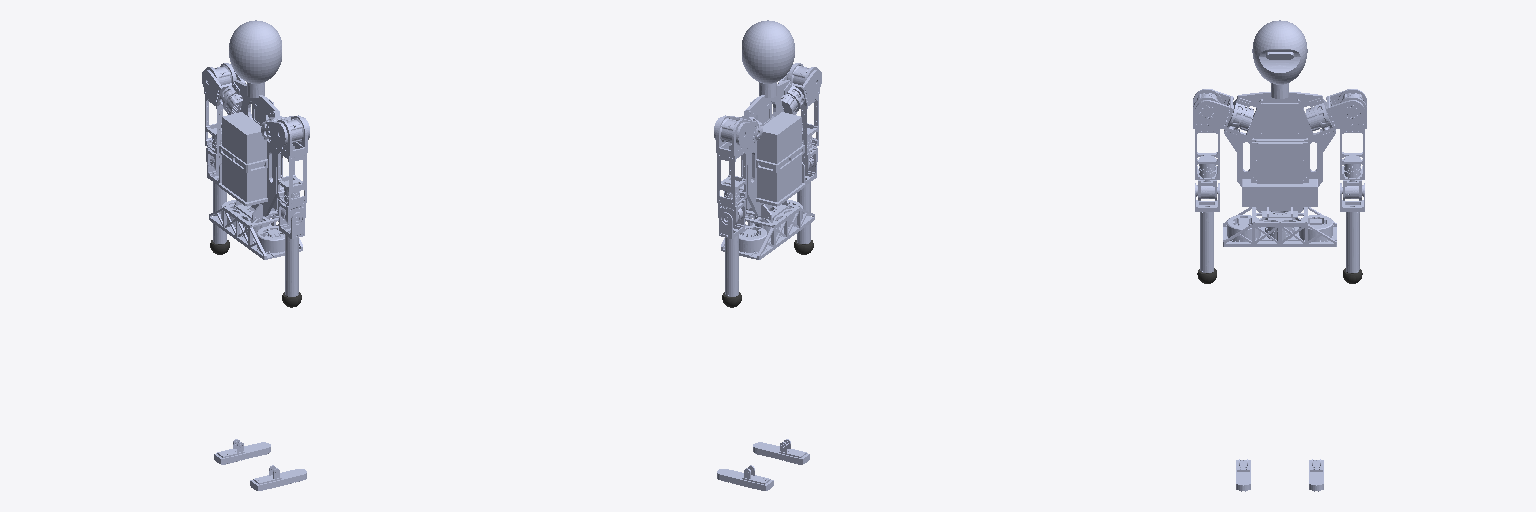
URDF robot description (wholebody_4_dof_arm_20deg_with_head_RL):
<?xml version="1.0" encoding="utf-8"?>
<!-- This URDF was automatically created by SolidWorks to URDF Exporter! Originally created by Stephen Brawner (brawner@gmail.com) 
     Commit Version: 1.6.0-4-g7f85cfe  Build Version: 1.6.7995.38578
     For more information, please see http://wiki.ros.org/sw_urdf_exporter -->
<robot name="wholebody_4_dof_arm_20deg_with_head_RL">
  <link name="base">
    <inertial>
      <origin xyz="-4E-06 1E-05 0.030876" rpy="0 0 0" />
      <mass value="5.124" />
      <inertia ixx="0.051784" ixy="0" ixz="1E-06" iyy="0.01018" iyz="-1E-06" izz="0.055756" />
    </inertial>
    <visual>
      <origin xyz="0 0 0" rpy="0 0 0" />
      <geometry>
        <mesh filename="package://upper_motor_test/urdf/meshes/Pelvis.STL" />
      </geometry>
      <material name="">
        <color rgba="0.792156862745098 0.819607843137255 0.933333333333333 1" />
      </material>
    </visual>
    <!-- <collision>
      <origin xyz="0 0 0" rpy="0 0 0" />
      <geometry>
        <mesh filename="meshes/Pelvis.STL" />
      </geometry>
    </collision> -->
  </link>
  <link name="Torso">
    <inertial>
      <origin xyz="-0.004339 0 0.21611" rpy="0 0 0" />
      <mass value="16.637" />
      <inertia ixx="0.29678" ixy="-2.9E-05" ixz="-0.0052" iyy="0.23294" iyz="0" izz="0.11448" />
    </inertial>
    <visual>
      <origin xyz="0 0 0" rpy="0 0 0" />
      <geometry>
        <mesh filename="package://upper_motor_test/urdf/meshes/Torso.STL" />
      </geometry>
      <material name="">
        <color rgba="0.792156862745098 0.819607843137255 0.933333333333333 1" />
      </material>
    </visual>
    <collision>
      <origin xyz="0 0 0.22" rpy="0 0 0" />
      <geometry>
        <box size="0.17 0.2 0.42" />
      </geometry>
    </collision>
  </link>
  <joint name="Waist_joint" type="revolute">
    <origin xyz="0 0 0.0825" rpy="0 0 0" />
    <parent link="base" />
    <child link="Torso" />
    <axis xyz="0 0 -1" />
    <limit lower="-0.87" upper="0.87" effort="100" velocity="13" />
  </joint>
  <link name="L_shoulder_pitch">
    <inertial>
      <origin xyz="0.002118 0.049276 0" rpy="0 0 0" />
      <mass value="0.47258" />
      <inertia ixx="0.000904" ixy="6.4E-05" ixz="0" iyy="0.000955" iyz="0" izz="0.001372" />
    </inertial>
    <visual>
      <origin xyz="0 0 0" rpy="0 0 0" />
      <geometry>
        <mesh filename="package://upper_motor_test/urdf/meshes/L_shoulder_pitch.STL" />
      </geometry>
      <material name="">
        <color rgba="0.792156862745098 0.819607843137255 0.933333333333333 1" />
      </material>
    </visual>
    <!-- <collision>
      <origin xyz="0 0 0" rpy="0 0 0" />
      <geometry>
        <mesh filename="meshes/L_shoulder_pitch.STL" />
      </geometry>
    </collision> -->
  </link>
  <joint name="L_shoulder_pitch_joint" type="revolute">
    <origin xyz="0.011233 0.15918 0.36224" rpy="0.34907 0 0" />
    <parent link="Torso" />
    <child link="L_shoulder_pitch" />
    <axis xyz="0 1 0" />
    <limit lower="-3.14" upper="1.05" effort="55" velocity="16" />
  </joint>
  <link name="L_shoulder_roll">
    <inertial>
      <origin xyz="0.001469 -7E-05 -0.079989" rpy="0 0 0" />
      <mass value="2.0026" />
      <inertia ixx="0.020339" ixy="-4E-06" ixz="0.000225" iyy="0.020072" iyz="4.8E-05" izz="0.002315" />
    </inertial>
    <visual>
      <origin xyz="0 0 0" rpy="0 0 0" />
      <geometry>
        <mesh filename="package://upper_motor_test/urdf/meshes/L_shoulder_roll.STL" />
      </geometry>
      <material name="">
        <color rgba="0.792156862745098 0.819607843137255 0.933333333333333 1" />
      </material>
    </visual>
    <!-- <collision>
      <origin xyz="0 0 0" rpy="0 0 0" />
      <geometry>
        <mesh filename="meshes/L_shoulder_roll.STL" />
      </geometry>
    </collision> -->
  </link>
  <joint name="L_shoulder_roll_joint" type="revolute">
    <origin xyz="-0.011233 0.082768 -0.00027966" rpy="-0.34907 0 0" />
    <parent link="L_shoulder_pitch" />
    <child link="L_shoulder_roll" />
    <axis xyz="1 0 0" />
    <limit lower="0" upper="1.92" effort="55" velocity="16" />
  </joint>
  <link name="L_shoulder_yaw">
    <inertial>
      <origin xyz="4.8E-05 0.00162 -0.045384" rpy="0 0 0" />
      <mass value="0.60851" />
      <inertia ixx="0.000608" ixy="0" ixz="0" iyy="0.00049" iyz="-2E-06" izz="0.000483" />
    </inertial>
    <visual>
      <origin xyz="0 0 0" rpy="0 0 0" />
      <geometry>
        <mesh filename="package://upper_motor_test/urdf/meshes/L_shoulder_yaw.STL" />
      </geometry>
      <material name="">
        <color rgba="0.792156862745098 0.819607843137255 0.933333333333333 1" />
      </material>
    </visual>
    <!-- <collision>
      <origin xyz="0 0 0" rpy="0 0 0" />
      <geometry>
        <mesh filename="meshes/L_shoulder_yaw.STL" />
      </geometry>
    </collision> -->
  </link>
  <joint name="L_shoulder_yaw_joint" type="revolute">
    <origin xyz="0 0 -0.2505" rpy="0 0 0" />
    <parent link="L_shoulder_roll" />
    <child link="L_shoulder_yaw" />
    <axis xyz="0 0 -1" />
    <limit lower="-1.57" upper="1.57" effort="30" velocity="8.5" />
  </joint>
  <link name="L_elbow">
    <inertial>
      <origin xyz="0 -5.2E-05 -0.075944" rpy="0 0 0" />
      <mass value="0.29715" />
      <inertia ixx="0.001705" ixy="0" ixz="0" iyy="0.001534" iyz="-1E-06" izz="0.000304" />
    </inertial>
    <visual>
      <origin xyz="0 0 0" rpy="0 0 0" />
      <geometry>
        <mesh filename="package://upper_motor_test/urdf/meshes/L_elbow.STL" />
      </geometry>
      <material name="">
        <color rgba="0.792156862745098 0.819607843137255 0.933333333333333 1" />
      </material>
    </visual>
    <!-- <collision>
      <origin xyz="0 0 0" rpy="0 0 0" />
      <geometry>
        <mesh filename="meshes/L_elbow.STL" />
      </geometry>
    </collision> -->
  </link>
  <joint name="L_elbow_joint" type="revolute">
    <origin xyz="0 0 -0.0545" rpy="0 0 0" />
    <parent link="L_shoulder_yaw" />
    <child link="L_elbow" />
    <axis xyz="0 1 0" />
    <limit lower="-1.92" upper="1.05" effort="30" velocity="8.5" />
  </joint>
  <link name="L_EE">
    <inertial>
      <origin xyz="0 0 -0.003514" rpy="0 0 0" />
      <mass value="0.15" />
      <inertia ixx="5.5E-05" ixy="0" ixz="0" iyy="5.5E-05" iyz="0" izz="6.4E-05" />
    </inertial>
    <visual>
      <origin xyz="0 0 0" rpy="0 0 0" />
      <geometry>
        <mesh filename="package://upper_motor_test/urdf/meshes/L_EE.STL" />
      </geometry>
      <material name="">
        <color rgba="0.298039215686275 0.298039215686275 0.298039215686275 1" />
      </material>
    </visual>
    <!-- <collision>
      <origin xyz="0 0 0" rpy="0 0 0" />
      <geometry>
        <mesh filename="meshes/L_EE.STL" />
      </geometry>
    </collision> -->
  </link>
  <joint name="L_EE_joint" type="fixed">
    <origin xyz="0 0 -0.299999999999998" rpy="0 0 0" />
    <parent link="L_elbow" />
    <child link="L_EE" />
    <axis xyz="0 0 0" />
    <limit lower="-1.57" upper="1.57" effort="30" velocity="8.5" />
  </joint>
  <link name="R_shoulder_pitch">
    <inertial>
      <origin xyz="0.002118 -0.049276 0" rpy="0 0 0" />
      <mass value="0.47258" />
      <inertia ixx="0.000904" ixy="-6.4E-05" ixz="0" iyy="0.000955" iyz="0" izz="0.001372" />
    </inertial>
    <visual>
      <origin xyz="0 0 0" rpy="0 0 0" />
      <geometry>
        <mesh filename="package://upper_motor_test/urdf/meshes/R_shoulder_pitch.STL" />
      </geometry>
      <material name="">
        <color rgba="0.792156862745098 0.819607843137255 0.933333333333333 1" />
      </material>
    </visual>
    <!-- <collision>
      <origin xyz="0 0 0" rpy="0 0 0" />
      <geometry>
        <mesh filename="meshes/R_shoulder_pitch.STL" />
      </geometry>
    </collision> -->
  </link>
  <joint name="R_shoulder_pitch_joint" type="revolute">
    <origin xyz="-0.011263 -0.16003 0.36224" rpy="-0.34907 0 0" />
    <parent link="Torso" />
    <child link="R_shoulder_pitch" />
    <axis xyz="0 1 0" />
    <limit lower="-3.14" upper="1.05" effort="55" velocity="16" />
  </joint>
  <link name="R_shoulder_roll">
    <inertial>
      <origin xyz="0.001469 -7E-05 -0.079989" rpy="0 0 0" />
      <mass value="2.0026" />
      <inertia ixx="0.020339" ixy="-4E-06" ixz="0.000225" iyy="0.020072" iyz="4.8E-05" izz="0.002315" />
    </inertial>
    <visual>
      <origin xyz="0 0 0" rpy="0 0 0" />
      <geometry>
        <mesh filename="package://upper_motor_test/urdf/meshes/R_shoulder_roll.STL" />
      </geometry>
      <material name="">
        <color rgba="0.792156862745098 0.819607843137255 0.933333333333333 1" />
      </material>
    </visual>
    <!-- <collision>
      <origin xyz="0 0 0" rpy="0 0 0" />
      <geometry>
        <mesh filename="meshes/R_shoulder_roll.STL" />
      </geometry>
    </collision> -->
  </link>
  <joint name="R_shoulder_roll_joint" type="revolute">
    <origin xyz="0.011263 -0.081976 0" rpy="0.34907 0 0" />
    <parent link="R_shoulder_pitch" />
    <child link="R_shoulder_roll" />
    <axis xyz="1 0 0" />
    <limit lower="-1.92" upper="0" effort="55" velocity="16" />
  </joint>
  <link name="R_shoulder_yaw">
    <inertial>
      <origin xyz="-4.8E-05 -0.00162 -0.045384" rpy="0 0 0" />
      <mass value="0.60851" />
      <inertia ixx="0.000608" ixy="0" ixz="0" iyy="0.00049" iyz="2E-06" izz="0.000483" />
    </inertial>
    <visual>
      <origin xyz="0 0 0" rpy="0 0 0" />
      <geometry>
        <mesh filename="package://upper_motor_test/urdf/meshes/R_shoulder_yaw.STL" />
      </geometry>
      <material name="">
        <color rgba="0.792156862745098 0.819607843137255 0.933333333333333 1" />
      </material>
    </visual>
    <!-- <collision>
      <origin xyz="0 0 0" rpy="0 0 0" />
      <geometry>
        <mesh filename="meshes/R_shoulder_yaw.STL" />
      </geometry>
    </collision> -->
  </link>
  <joint name="R_shoulder_yaw_joint" type="revolute">
    <origin xyz="0 0 -0.2505" rpy="0 0 0" />
    <parent link="R_shoulder_roll" />
    <child link="R_shoulder_yaw" />
    <axis xyz="0 0 -1" />
    <limit lower="-1.57" upper="1.57" effort="30" velocity="8.5" />
  </joint>
  <link name="R_elbow">
    <inertial>
      <origin xyz="0 5.2E-05 -0.075944" rpy="0 0 0" />
      <mass value="0.29715" />
      <inertia ixx="0.001705" ixy="0" ixz="0" iyy="0.001534" iyz="1E-06" izz="0.000304" />
    </inertial>
    <visual>
      <origin xyz="0 0 0" rpy="0 0 0" />
      <geometry>
        <mesh filename="package://upper_motor_test/urdf/meshes/R_elbow.STL" />
      </geometry>
      <material name="">
        <color rgba="0.792156862745098 0.819607843137255 0.933333333333333 1" />
      </material>
    </visual>
    <!-- <collision>
      <origin xyz="0 0 0" rpy="0 0 0" />
      <geometry>
        <mesh filename="meshes/R_elbow.STL" />
      </geometry>
    </collision> -->
  </link>
  <joint name="R_elbow_joint" type="revolute">
    <origin xyz="0 0 -0.0545" rpy="0 0 0" />
    <parent link="R_shoulder_yaw" />
    <child link="R_elbow" />
    <axis xyz="0 1 0" />
    <limit lower="-1.92" upper="1.05" effort="30" velocity="8.5" />
  </joint>
  <link name="R_EE">
    <inertial>
      <origin xyz="0 0 -0.003514" rpy="0 0 0" />
      <mass value="0.15" />
      <inertia ixx="5.5E-05" ixy="0" ixz="0" iyy="5.5E-05" iyz="0" izz="6.4E-05" />
    </inertial>
    <visual>
      <origin xyz="0 0 0" rpy="0 0 0" />
      <geometry>
        <mesh filename="package://upper_motor_test/urdf/meshes/R_EE.STL" />
      </geometry>
      <material name="">
        <color rgba="0.298039215686275 0.298039215686275 0.298039215686275 1" />
      </material>
    </visual>
    <!-- <collision>
      <origin xyz="0 0 0" rpy="0 0 0" />
      <geometry>
        <mesh filename="meshes/R_EE.STL" />
      </geometry>
    </collision> -->
  </link>
  <joint name="R_EE_joint" type="fixed">
    <origin xyz="0 0 -0.3" rpy="0 0 0" />
    <parent link="R_elbow" />
    <child link="R_EE" />
    <axis xyz="0 0 0" />
    <limit lower="-1.57" upper="1.57" effort="30" velocity="8.5" />
  </joint>
  <link name="L_hip">
    <inertial>
      <origin xyz="-0.076146 -0.000144 -0.068558" rpy="0 0 0" />
      <mass value="1.5262" />
      <inertia ixx="0.004624" ixy="1.1E-05" ixz="0.001652" iyy="0.005293" iyz="6E-06" izz="0.003353" />
    </inertial>
    <visual>
      <origin xyz="0 0 0" rpy="0 0 0" />
      <geometry>
        <mesh filename="package://upper_motor_test/urdf/meshes/L_hip.STL" />
      </geometry>
      <material name="">
        <color rgba="0.792156862745098 0.819607843137255 0.933333333333333 1" />
      </material>
    </visual>
    <!-- <collision>
      <origin xyz="0 0 0" rpy="0 0 0" />
      <geometry>
        <mesh filename="meshes/L_hip.STL" />
      </geometry>
    </collision> -->
  </link>
  <joint name="L_hip_joint" type="revolute">
    <origin xyz="0 0.1175 0.0058" rpy="0 0 0" />
    <parent link="base" />
    <child link="L_hip" />
    <axis xyz="0 0 1" />
    <limit lower="-0.79" upper="0.61" effort="115" velocity="22" />
  </joint>
  <link name="L_hip2">
    <inertial>
      <origin xyz="0.062812 -0.057927 -0.015123" rpy="0 0 0" />
      <mass value="1.3333" />
      <inertia ixx="0.002186" ixy="-0.000631" ixz="-0.00026" iyy="0.003313" iyz="0.000174" izz="0.002911" />
    </inertial>
    <visual>
      <origin xyz="0 0 0" rpy="0 0 0" />
      <geometry>
        <mesh filename="package://upper_motor_test/urdf/meshes/L_hip2.STL" />
      </geometry>
      <material name="">
        <color rgba="0.792156862745098 0.819607843137255 0.933333333333333 1" />
      </material>
    </visual>
    <!-- <collision>
      <origin xyz="0 0 0" rpy="0 0 0" />
      <geometry>
        <mesh filename="meshes/L_hip2.STL" />
      </geometry>
    </collision> -->
  </link>
  <joint name="L_hip2_joint" type="revolute">
    <origin xyz="-0.0733 0 -0.0965" rpy="0 0 0" />
    <parent link="L_hip" />
    <child link="L_hip2" />
    <axis xyz="-1 0 0" />
    <limit lower="-0.7" upper="0.52" effort="115" velocity="22" />
  </joint>
  <link name="L_thigh">
    <inertial>
      <origin xyz="-2E-05 0.050143 -0.086535" rpy="0 0 0" />
      <mass value="4.91" />
      <inertia ixx="0.078865" ixy="0" ixz="-9E-06" iyy="0.079352" iyz="0.00221" izz="0.009803" />
    </inertial>
    <visual>
      <origin xyz="0 0 0" rpy="0 0 0" />
      <geometry>
        <mesh filename="package://upper_motor_test/urdf/meshes/L_thigh.STL" />
      </geometry>
      <material name="">
        <color rgba="0.792156862745098 0.819607843137255 0.933333333333333 1" />
      </material>
    </visual>
    <collision>
      <origin xyz="0 0.051057 -0.2" rpy="0 0 0" />
      <geometry>
        <cylinder radius="0.03" length="0.27" />
      </geometry>
    </collision>
  </link>
  <joint name="L_thigh_joint" type="revolute">
    <origin xyz="0.075 -0.0443 -0.0185" rpy="0 0 0" />
    <parent link="L_hip2" />
    <child link="L_thigh" />
    <axis xyz="0 1 0" />
    <limit lower="-2.44" upper="0.35" effort="115" velocity="22" />
  </joint>
  <link name="L_calf">
    <inertial>
      <origin xyz="3.6E-05 0.000712 -0.1237" rpy="0 0 0" />
      <mass value="1.5" />
      <inertia ixx="0.014686" ixy="0" ixz="3E-06" iyy="0.014996" iyz="-9E-06" izz="0.001006" />
    </inertial>
    <visual>
      <origin xyz="0 0 0" rpy="0 0 0" />
      <geometry>
        <mesh filename="package://upper_motor_test/urdf/meshes/L_calf.STL" />
      </geometry>
      <material name="">
        <color rgba="0.792156862745098 0.819607843137255 0.933333333333333 1" />
      </material>
    </visual>
    <collision>
      <origin xyz="0 0 -0.2" rpy="0 0 0" />
      <geometry>
        <cylinder radius="0.03" length="0.27" />
      </geometry>
    </collision>
  </link>
  <joint name="L_calf_joint" type="revolute">
    <origin xyz="0 0.045966 -0.35" rpy="0 0 0" />
    <parent link="L_thigh" />
    <child link="L_calf" />
    <axis xyz="0 -1 0" />
    <limit lower="-2.09" upper="2.09" effort="175" velocity="22" />
  </joint>
  <link name="L_toe">
    <inertial>
      <origin xyz="0.01468 1.4E-05 -0.035597" rpy="0 0 0" />
      <mass value="0.52014" />
      <inertia ixx="0.000142" ixy="-1E-06" ixz="-2.6E-05" iyy="0.001621" iyz="0" izz="0.001685" />
    </inertial>
    <visual>
      <origin xyz="0 0 0" rpy="0 0 0" />
      <geometry>
        <mesh filename="package://upper_motor_test/urdf/meshes/L_toe.STL" />
      </geometry>
      <material name="">
        <color rgba="0.792156862745098 0.819607843137255 0.933333333333333 1" />
      </material>
    </visual>
    <collision>
      <origin xyz="0 0 0" rpy="0 0 0" />
      <geometry>
        <mesh filename="package://upper_motor_test/urdf/meshes/L_toe.STL" />
      </geometry>
    </collision>
  </link>
  <joint name="L_toe_joint" type="revolute">
    <origin xyz="-0.019446 0 -0.34946" rpy="0 0 0" />
    <parent link="L_calf" />
    <child link="L_toe" />
    <axis xyz="0 -1 0" />
    <limit lower="-0.7854" upper="0.7854" effort="20" velocity="15" />
  </joint>
  <link name="R_hip">
    <inertial>
      <origin xyz="-0.076146 -0.000144 -0.068558" rpy="0 0 0" />
      <mass value="1.5262" />
      <inertia ixx="0.004624" ixy="1.1E-05" ixz="0.001652" iyy="0.005293" iyz="6E-06" izz="0.003353" />
    </inertial>
    <visual>
      <origin xyz="0 0 0" rpy="0 0 0" />
      <geometry>
        <mesh filename="package://upper_motor_test/urdf/meshes/R_hip.STL" />
      </geometry>
      <material name="">
        <color rgba="0.792156862745098 0.819607843137255 0.933333333333333 1" />
      </material>
    </visual>
    <!-- <collision>
      <origin xyz="0 0 0" rpy="0 0 0" />
      <geometry>
        <mesh filename="meshes/R_hip.STL" />
      </geometry>
    </collision> -->
  </link>
  <joint name="R_hip_joint" type="revolute">
    <origin xyz="0 -0.1175 0.0058" rpy="0 0 0" />
    <parent link="base" />
    <child link="R_hip" />
    <axis xyz="0 0 1" />
    <limit lower="-0.61" upper="0.79" effort="115" velocity="22" />
  </joint>
  <link name="R_hip2">
    <inertial>
      <origin xyz="0.062812 0.057927 -0.015123" rpy="0 0 0" />
      <mass value="1.3333" />
      <inertia ixx="0.002186" ixy="0.000631" ixz="-0.00026" iyy="0.003313" iyz="-0.000174" izz="0.002911" />
    </inertial>
    <visual>
      <origin xyz="0 0 0" rpy="0 0 0" />
      <geometry>
        <mesh filename="package://upper_motor_test/urdf/meshes/R_hip2.STL" />
      </geometry>
      <material name="">
        <color rgba="0.792156862745098 0.819607843137255 0.933333333333333 1" />
      </material>
    </visual>
    <!-- <collision>
      <origin xyz="0 0 0" rpy="0 0 0" />
      <geometry>
        <mesh filename="meshes/R_hip2.STL" />
      </geometry>
    </collision> -->
  </link>
  <joint name="R_hip2_joint" type="revolute">
    <origin xyz="-0.0733 0 -0.0965" rpy="0 0 0" />
    <parent link="R_hip" />
    <child link="R_hip2" />
    <axis xyz="-1 0 0" />
    <limit lower="-0.52" upper="0.7" effort="115" velocity="22" />
  </joint>
  <link name="R_thigh">
    <inertial>
      <origin xyz="2E-05 -0.050143 -0.086535" rpy="0 0 0" />
      <mass value="4.91" />
      <inertia ixx="0.078865" ixy="0" ixz="9E-06" iyy="0.079352" iyz="-0.00221" izz="0.009803" />
    </inertial>
    <visual>
      <origin xyz="0 0 0" rpy="0 0 0" />
      <geometry>
        <mesh filename="package://upper_motor_test/urdf/meshes/R_thigh.STL" />
      </geometry>
      <material name="">
        <color rgba="0.792156862745098 0.819607843137255 0.933333333333333 1" />
      </material>
    </visual>
    <collision>
      <origin xyz="0 -0.051057 -0.2" rpy="0 0 0" />
      <geometry>
        <cylinder radius="0.03" length="0.27" />
      </geometry>
    </collision>
  </link>
  <joint name="R_thigh_joint" type="revolute">
    <origin xyz="0.075 0.0443 -0.0185" rpy="0 0 0" />
    <parent link="R_hip2" />
    <child link="R_thigh" />
    <axis xyz="0 1 0" />
    <limit lower="-2.44" upper="0.35" effort="115" velocity="22" />
  </joint>
  <link name="R_calf">
    <inertial>
      <origin xyz="-3.6E-05 -0.000712 -0.1237" rpy="0 0 0" />
      <mass value="1.5" />
      <inertia ixx="0.014686" ixy="0" ixz="-3E-06" iyy="0.014996" iyz="9E-06" izz="0.001006" />
    </inertial>
    <visual>
      <origin xyz="0 0 0" rpy="0 0 0" />
      <geometry>
        <mesh filename="package://upper_motor_test/urdf/meshes/R_calf.STL" />
      </geometry>
      <material name="">
        <color rgba="0.792156862745098 0.819607843137255 0.933333333333333 1" />
      </material>
    </visual>
    <collision>
      <origin xyz="0 0 -0.2" rpy="0 0 0" />
      <geometry>
        <cylinder radius="0.03" length="0.27" />
      </geometry>
    </collision>
  </link>
  <joint name="R_calf_joint" type="revolute">
    <origin xyz="0 -0.045966 -0.35" rpy="0 0 0" />
    <parent link="R_thigh" />
    <child link="R_calf" />
    <axis xyz="0 -1 0" />
    <limit lower="-2.09" upper="2.09" effort="175" velocity="22" />
  </joint>
  <link name="R_toe">
    <inertial>
      <origin xyz="0.01468 1.4E-05 -0.035597" rpy="0 0 0" />
      <mass value="0.52014" />
      <inertia ixx="0.000142" ixy="-1E-06" ixz="-2.6E-05" iyy="0.001621" iyz="0" izz="0.001685" />
    </inertial>
    <visual>
      <origin xyz="0 0 0" rpy="0 0 0" />
      <geometry>
        <mesh filename="package://upper_motor_test/urdf/meshes/R_toe.STL" />
      </geometry>
      <material name="">
        <color rgba="0.792156862745098 0.819607843137255 0.933333333333333 1" />
      </material>
    </visual>
    <collision>
      <origin xyz="0 0 0" rpy="0 0 0" />
      <geometry>
        <mesh filename="package://upper_motor_test/urdf/meshes/R_toe.STL" />
      </geometry>
    </collision>
  </link>
  <joint name="R_toe_joint" type="revolute">
    <origin xyz="-0.019446 0 -0.34946" rpy="0 0 0" />
    <parent link="R_calf" />
    <child link="R_toe" />
    <axis xyz="0 -1 0" />
    <limit lower="-0.7854" upper="0.7854" effort="20" velocity="15" />
  </joint>
</robot>

--- What the picture shows (computed from the rendered views, not written in the file) ---
The picture shows the robot from 3 angles, left to right: view 1: azimuth 30°, elevation 25°; view 2: azimuth 150°, elevation 25°; view 3: azimuth 270°, elevation 25°; orthographic projection.
Robot: wholebody_4_dof_arm_20deg_with_head_RL — 22 links, 21 joints (19 revolute, 2 fixed); root link base; default pose: every joint at zero.
Links seen in each view (by area): view 1: Torso, base, R_shoulder_roll, R_elbow, L_shoulder_roll, L_toe, R_toe, L_elbow, R_shoulder_pitch, L_shoulder_pitch; view 2: Torso, base, L_shoulder_roll, L_elbow, R_shoulder_roll, R_toe, L_toe, R_elbow, L_shoulder_pitch, R_shoulder_pitch; view 3: Torso, base, L_shoulder_roll, R_shoulder_roll, R_elbow, L_elbow, L_shoulder_pitch, R_shoulder_pitch.
Boxes of the visible links, <box> form: Torso: <box>219,20,285,219</box>; base: <box>209,200,302,259</box>; R_shoulder_roll: <box>276,115,307,206</box>; R_elbow: <box>279,212,304,296</box>; L_shoulder_roll: <box>204,63,235,153</box>; L_toe: <box>214,439,270,464</box>; R_toe: <box>250,465,306,490</box>; L_elbow: <box>207,162,226,243</box>; R_shoulder_pitch: <box>266,116,309,145</box>; L_shoulder_pitch: <box>202,64,245,105</box>; Torso: <box>738,20,804,219</box>; base: <box>721,200,814,259</box>; L_shoulder_roll: <box>716,115,747,206</box>; L_elbow: <box>719,212,744,296</box>; R_shoulder_roll: <box>788,63,819,153</box>; R_toe: <box>753,439,809,464</box>; L_toe: <box>717,465,773,490</box>; R_elbow: <box>797,162,816,243</box>; L_shoulder_pitch: <box>714,116,757,145</box>; R_shoulder_pitch: <box>778,64,821,105</box>; Torso: <box>1224,20,1335,217</box>; base: <box>1223,207,1336,246</box>; L_shoulder_roll: <box>1338,89,1366,179</box>; R_shoulder_roll: <box>1193,89,1221,179</box>; R_elbow: <box>1195,183,1219,272</box>; L_elbow: <box>1340,183,1364,272</box>; L_shoulder_pitch: <box>1326,91,1364,129</box>; R_shoulder_pitch: <box>1195,91,1233,129</box>.
Bounding box of the posed robot: 0.2137 × 0.5681 × 1.63 m (x, y, z).
14 mesh visuals loaded from 22 distinct referenced files (14 binary STL); not drawn: 8 (reference not matched to a file when rendering).
